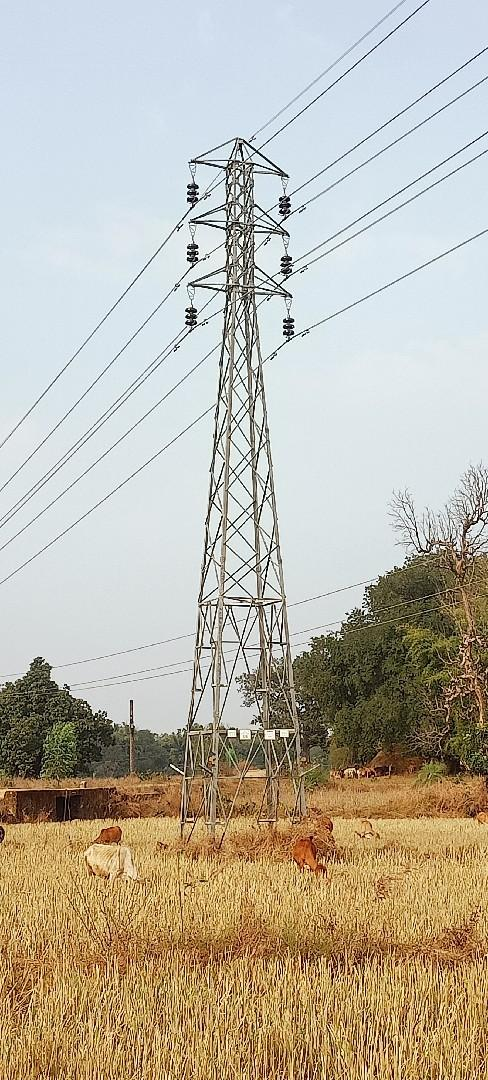GSM Antenna: (165, 129, 327, 827)
